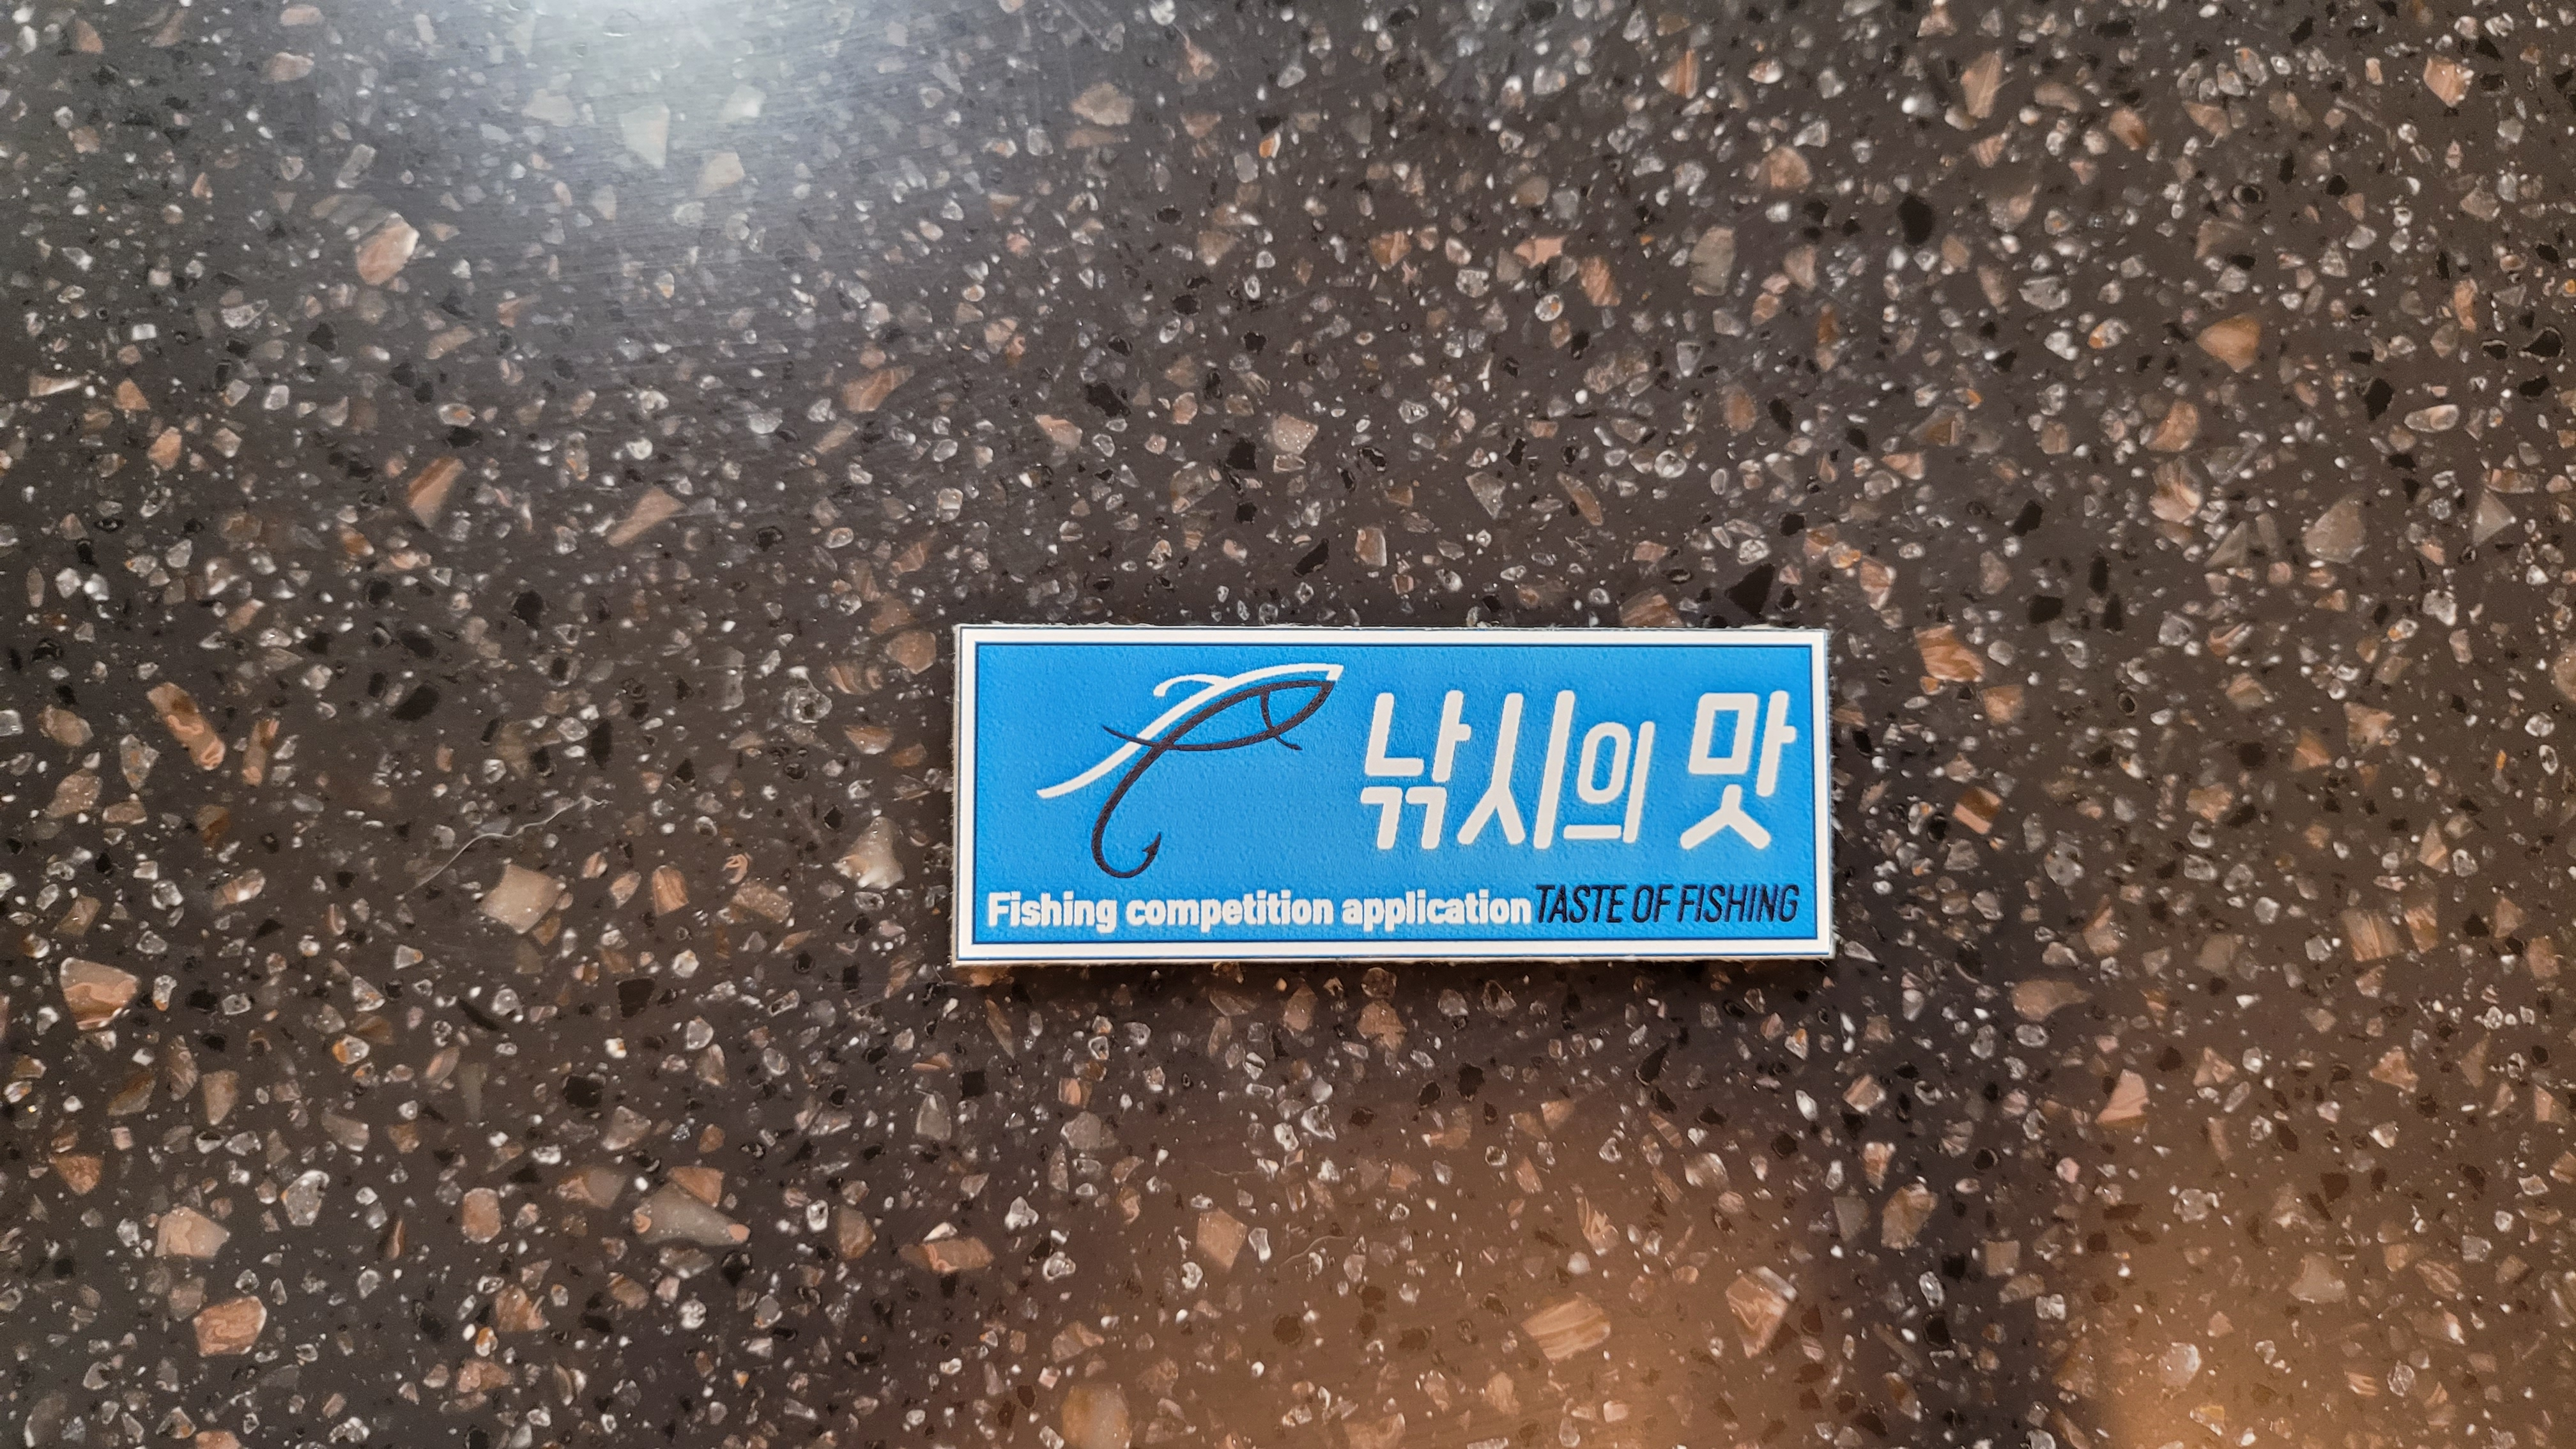tag: (948, 625, 1840, 959)
